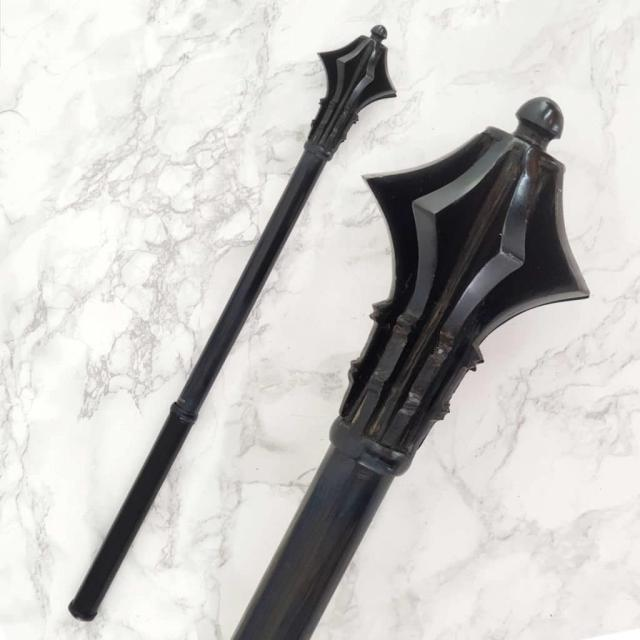mace: (68, 23, 402, 622), (230, 96, 595, 640)
